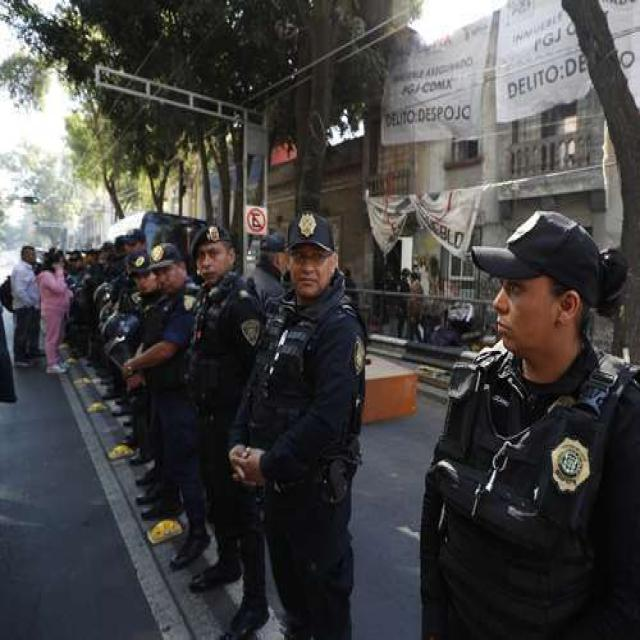stamps: (383, 18, 488, 141), (497, 2, 591, 121)
